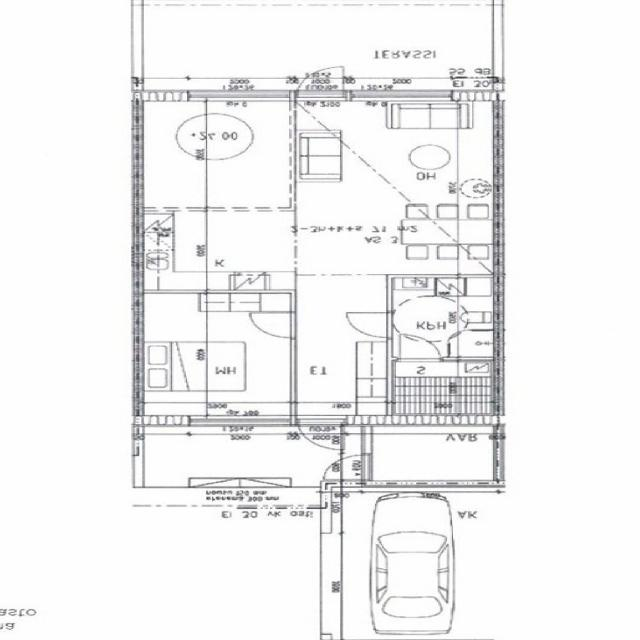door: (298, 62, 344, 101), (298, 416, 342, 454), (320, 454, 372, 480), (345, 312, 393, 338), (399, 332, 440, 362), (249, 313, 296, 338)
